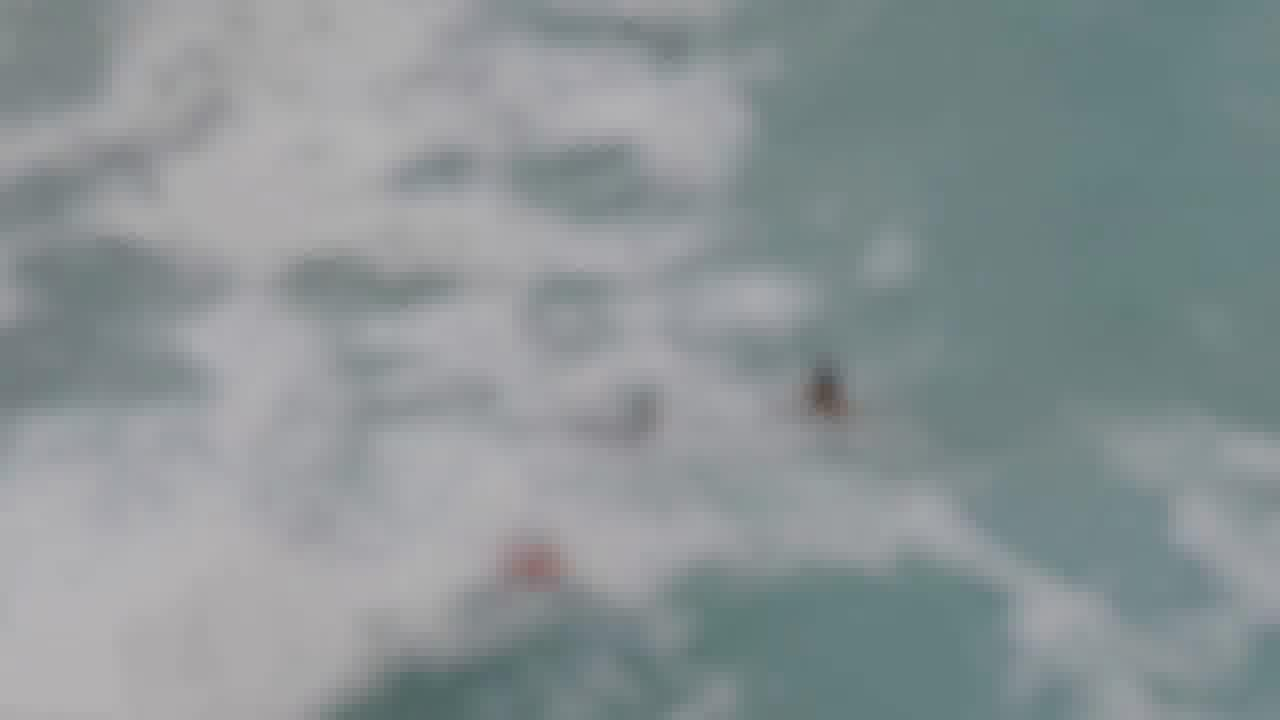human: (810, 356, 844, 419)
